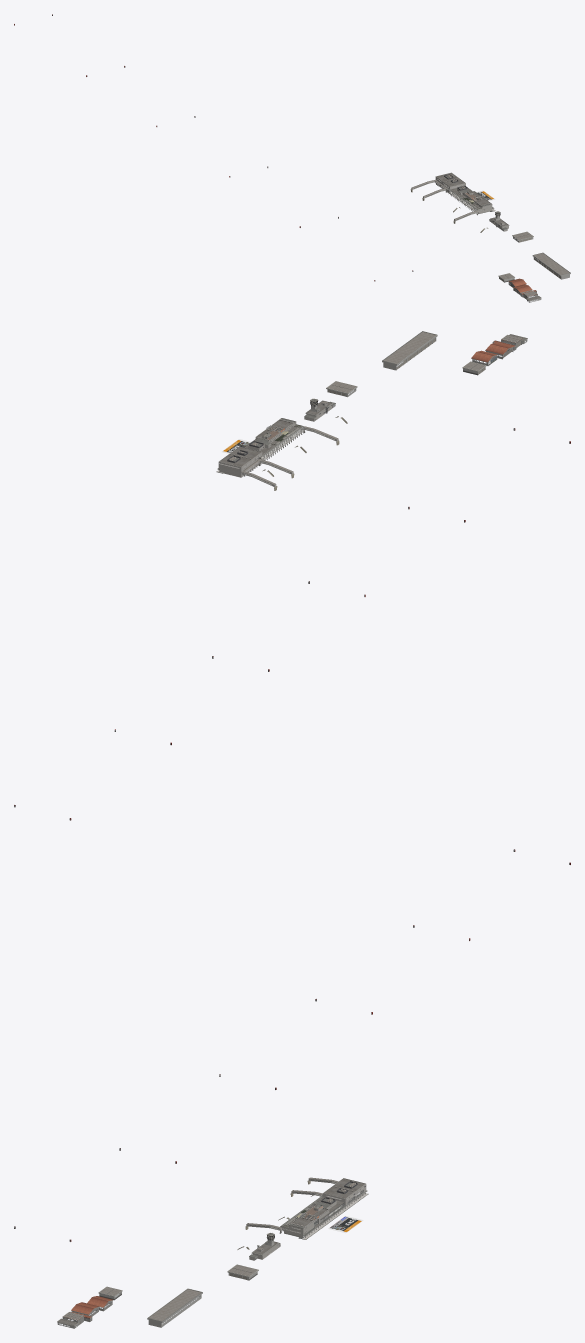
3 views of the same model, one above another, from view 1: azimuth 30°, elevation 25°; view 2: azimuth 150°, elevation 25°; view 3: azimuth 330°, elevation 25° (orthographic). The views are drawn at different scales.
Visible parts, largest first — view 1: no part large enough to name; view 2: 立方体.429; view 3: 立方体.429, 立方体.109.
Boxes of the visible parts, x1,y1,x2,y2 form: 立方体.429: (382, 331, 437, 365); 立方体.429: (147, 1288, 202, 1322); 立方体.109: (281, 1206, 329, 1237).
Size of the model in its own units: 84.12 by 7.97 by 332.
12 materials, 6 textured.
